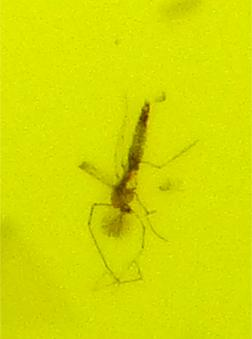Nematocera: (100, 100, 152, 239)
